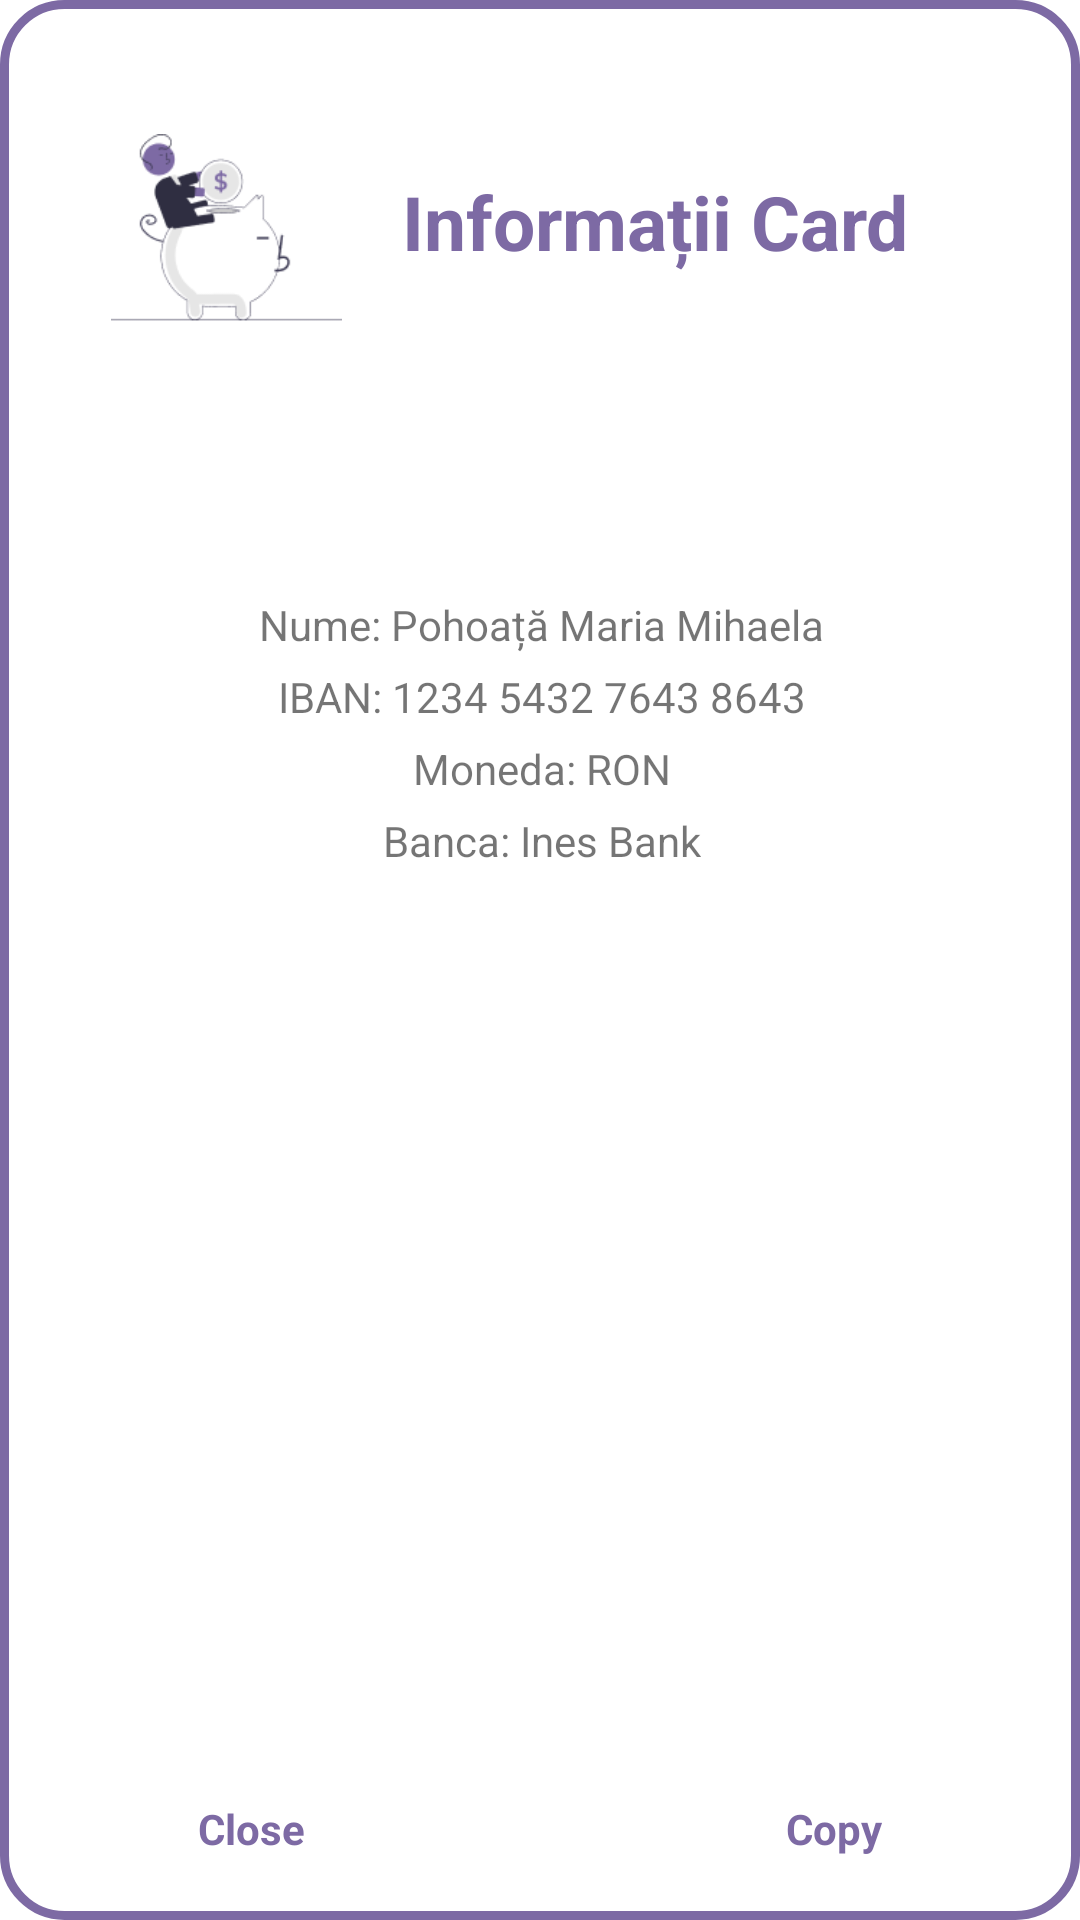

Icons on this 1080*1920 Android screen, each with its box as (x1, y1, x2, y2):
depozit: (111, 134, 342, 321)
